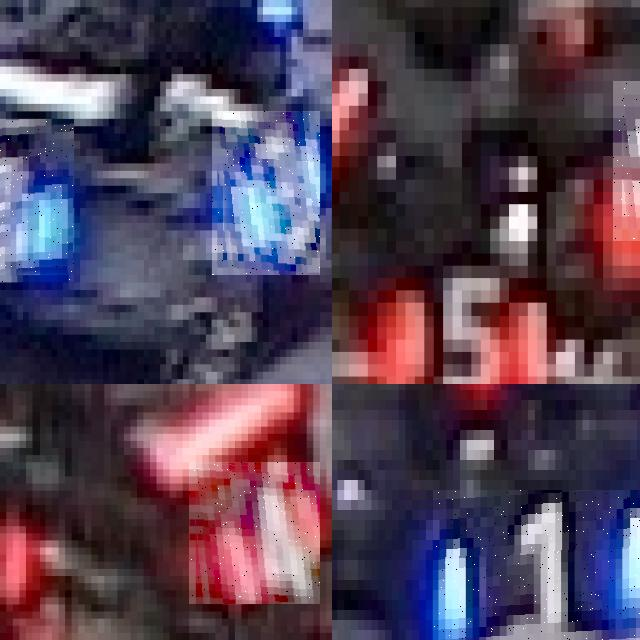B1: (432, 490, 640, 640)
B3: (212, 111, 320, 275), (0, 118, 74, 282)
R4: (189, 462, 320, 604), (0, 490, 45, 618)
R5: (386, 253, 556, 384), (612, 81, 640, 241)
